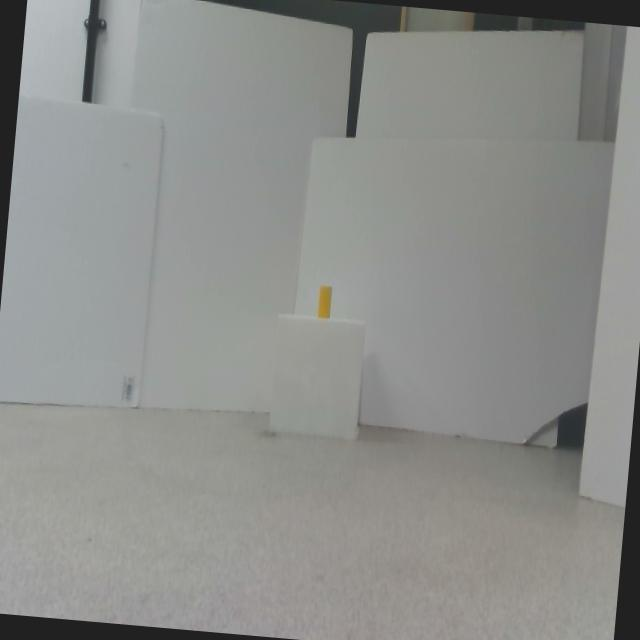yellow_cylinder: (316, 285, 332, 318)
